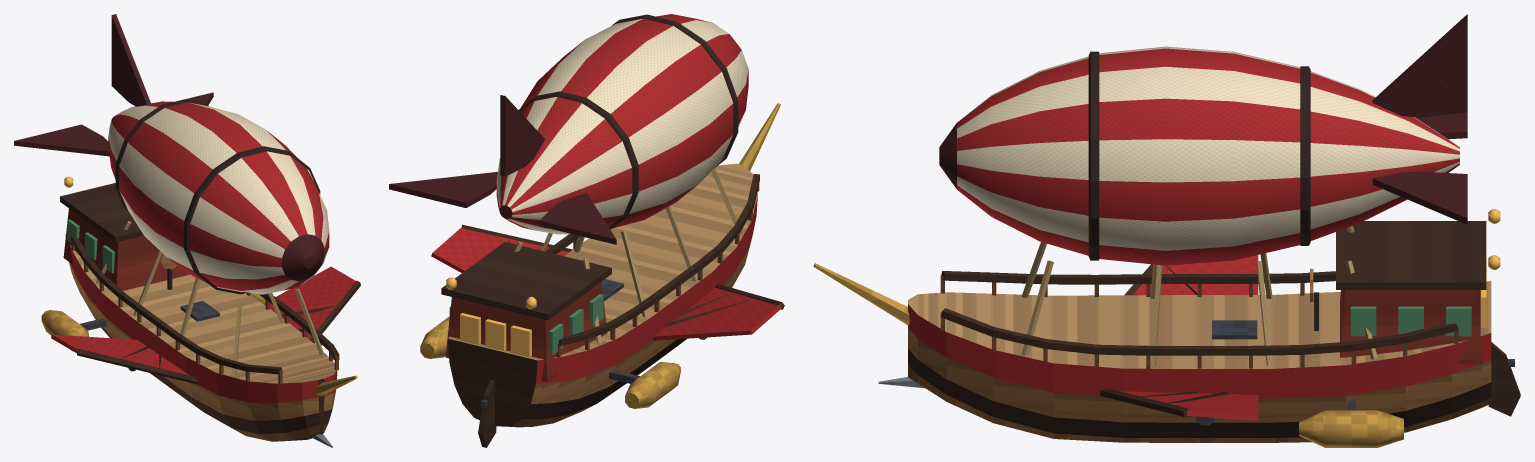
File: SM_Ship_Sloop_HQ.glb
3 renders of one model, left to right at view 1: azimuth 30°, elevation 25°; view 2: azimuth 150°, elevation 25°; view 3: azimuth 270°, elevation 25°, orthographic. The views are drawn at different scales.
Visible parts, largest first — view 1: SM_Ship_Sloop_HQ; view 2: SM_Ship_Sloop_HQ; view 3: SM_Ship_Sloop_HQ.
Part boxes in pixels (box(x1,y1,x2,y2)): SM_Ship_Sloop_HQ: box(14, 14, 360, 447); SM_Ship_Sloop_HQ: box(389, 14, 784, 447); SM_Ship_Sloop_HQ: box(813, 14, 1520, 447).
Size of the model in its own units: 7.56 by 7.89 by 12.12.
Materials: 1 (1 with a texture image).
